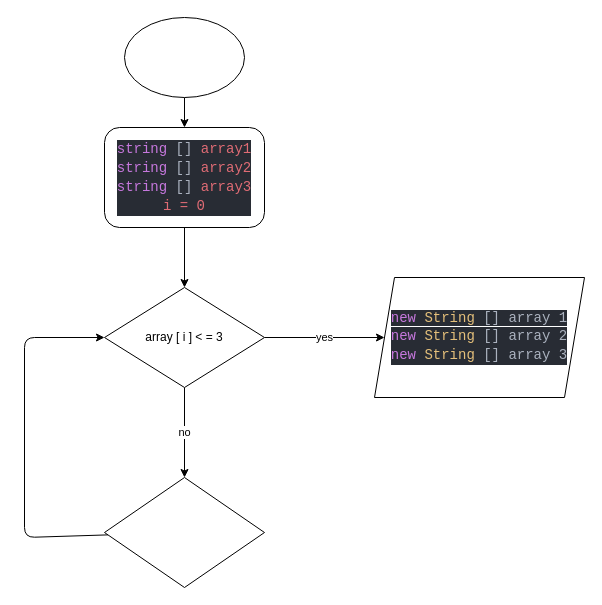
Some shapes in this 602 by 605 pixel diagram are drawn without their labels. Here are the shapes that lost their labels. From the top down, the centre of each, then its label:
At pixel 184 57: "start".
At pixel 184 532: "i ++".
